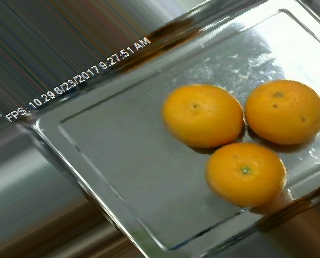Orange: (160, 82, 243, 148), (204, 142, 288, 207), (244, 79, 320, 146)
